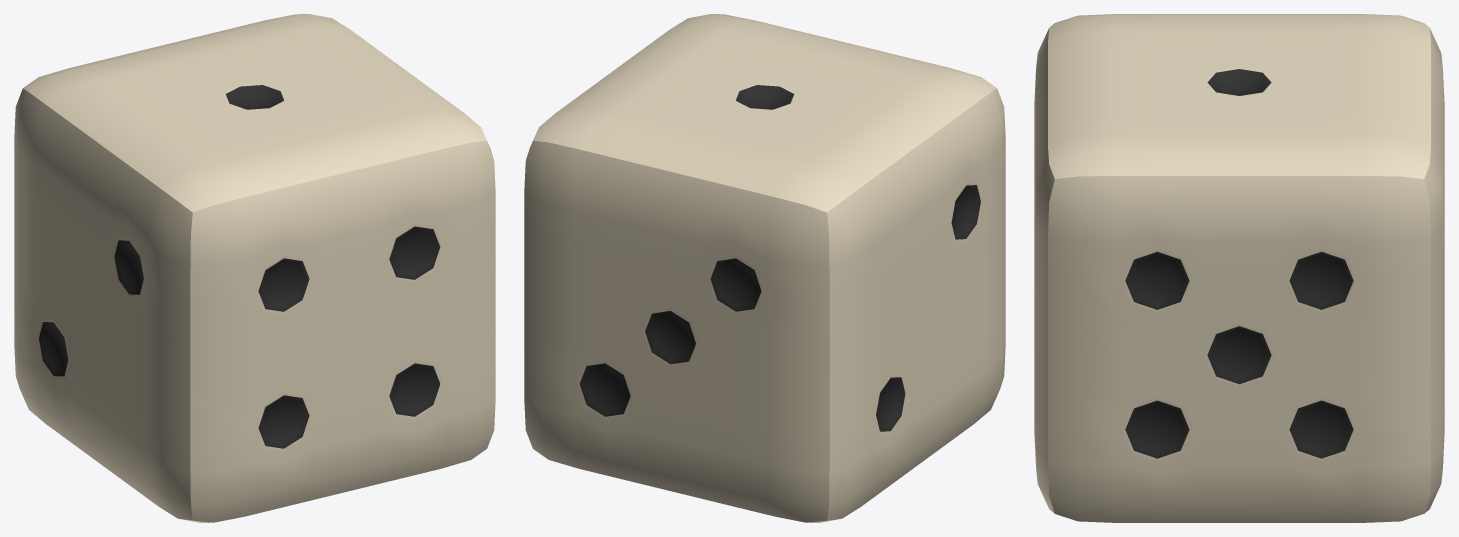
Rendered from SM_Dice.fbx.
The picture shows the model from 3 angles, left to right: view 1: azimuth 30°, elevation 25°; view 2: azimuth 150°, elevation 25°; view 3: azimuth 270°, elevation 25°; orthographic projection. The views are drawn at different scales.
Visible parts, largest first — view 1: Dice; view 2: Dice; view 3: Dice.
Part boxes in pixels (x1,y1,x2,y2): Dice: (14,14,495,522); Dice: (524,14,1005,522); Dice: (1034,14,1444,522).
Size of the model in its own units: 200 by 200 by 200.
